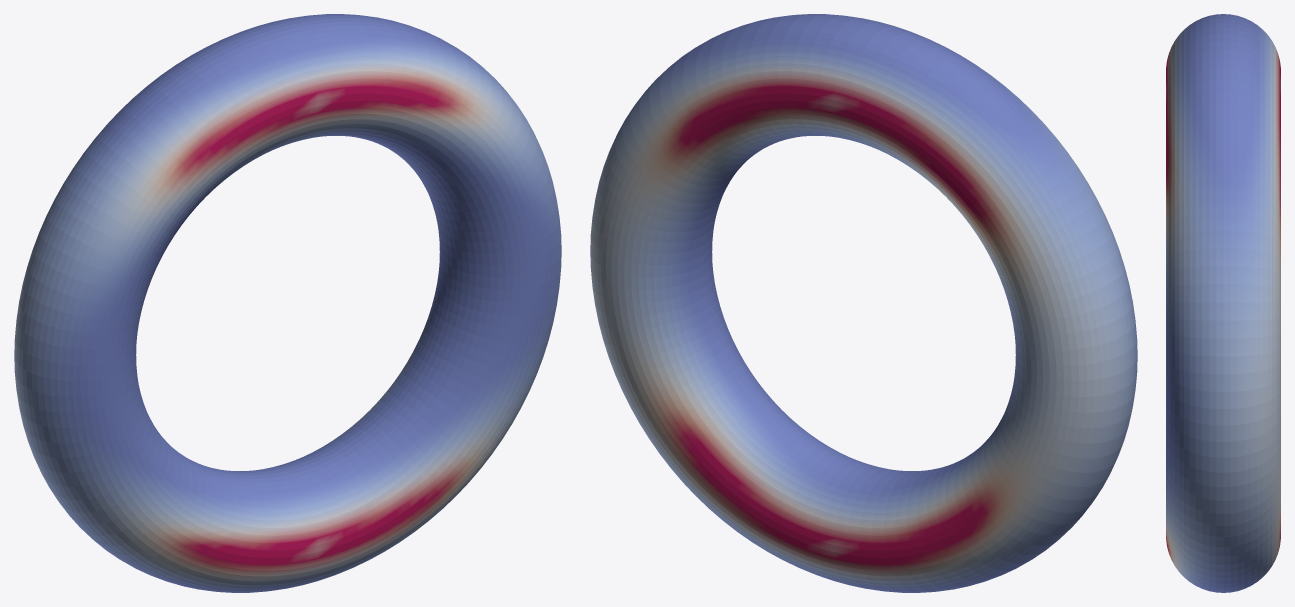
3 renders of one model, left to right at view 1: azimuth 30°, elevation 25°; view 2: azimuth 150°, elevation 25°; view 3: azimuth 270°, elevation 25°, orthographic. The views are drawn at different scales.
Parts seen in each view (by area): view 1: world; view 2: world; view 3: world.
Boxes of the visible parts, x1=… form: world: x1=14, y1=14, x2=561, y2=592; world: x1=590, y1=14, x2=1137, y2=592; world: x1=1166, y1=14, x2=1280, y2=592.
Size of the model in its own units: 20.8 by 20.8 by 4.13.
